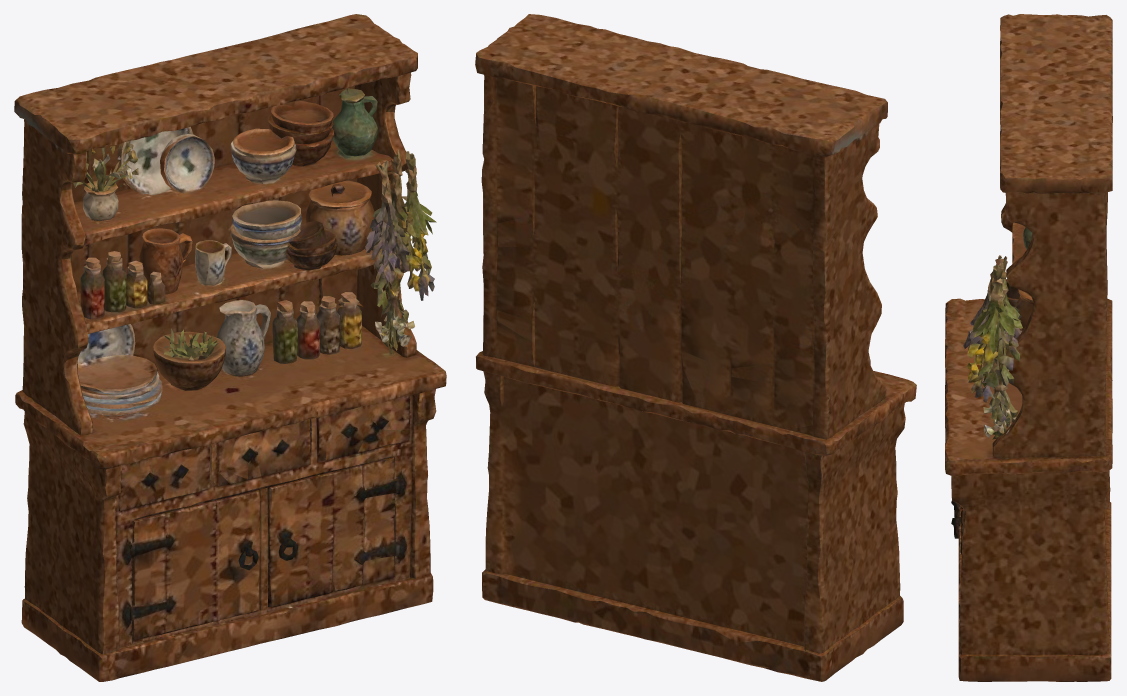
File: hutch_lite.glb
3 views of the same model, side by side, from view 1: azimuth 30°, elevation 25°; view 2: azimuth 150°, elevation 25°; view 3: azimuth 270°, elevation 25° (orthographic). The views are drawn at different scales.
Visible parts, largest first — view 1: geometry_0; view 2: geometry_0; view 3: geometry_0.
Boxes of the visible parts, left/top/right/bottom form: geometry_0: left=14, top=14, right=446, bottom=681; geometry_0: left=475, top=14, right=916, bottom=681; geometry_0: left=945, top=14, right=1112, bottom=681.
Bounding box in the file's own units: 1.35 × 1.9 × 0.5692.
1 material, 1 textured.
